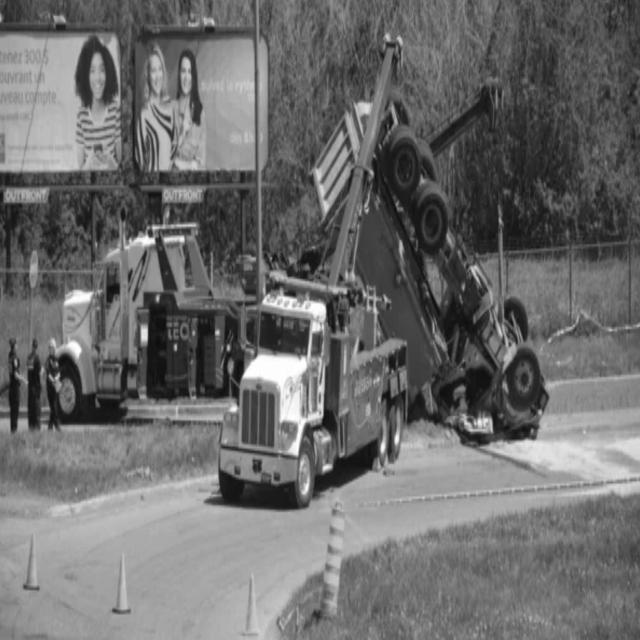severe: (304, 75, 547, 444)
